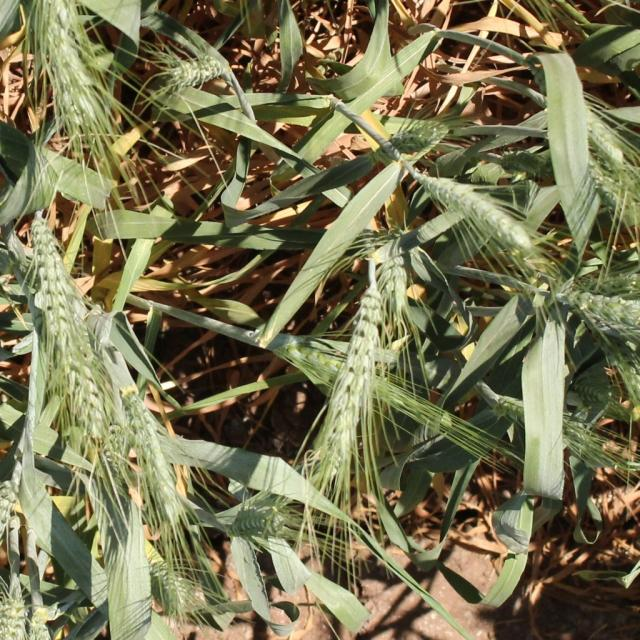healthy_wheat: (444, 260, 640, 512), (286, 263, 422, 572), (90, 404, 241, 636), (344, 106, 551, 242), (169, 454, 350, 604), (11, 212, 109, 458), (536, 58, 640, 248), (0, 487, 94, 640), (296, 28, 452, 118), (30, 4, 119, 160), (109, 214, 309, 256), (136, 48, 228, 108)
